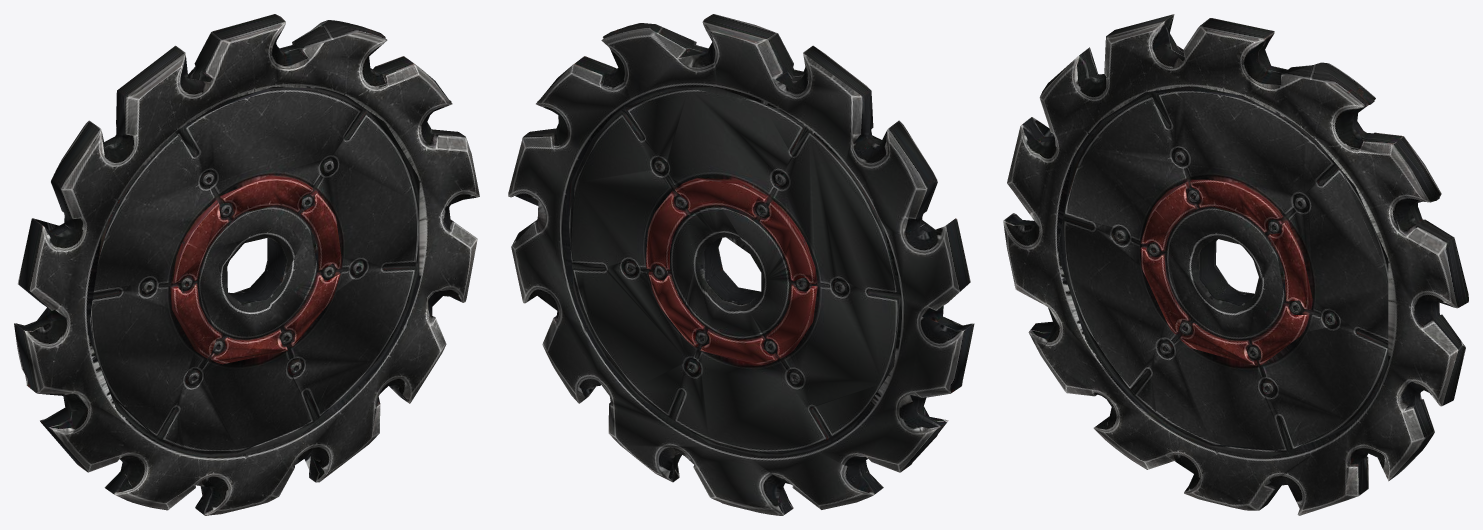
File: new_saw_blade.glb
3 renders of one model, left to right at view 1: azimuth 30°, elevation 25°; view 2: azimuth 150°, elevation 25°; view 3: azimuth 330°, elevation 25°, orthographic.
Parts seen in each view (by area): view 1: mesh_node; view 2: mesh_node; view 3: mesh_node.
Boxes of the visible parts, bbox=[...] form: mesh_node: bbox=[14, 14, 479, 515]; mesh_node: bbox=[508, 14, 974, 515]; mesh_node: bbox=[1003, 14, 1468, 515].
Bounding box in the file's own units: 1.89 × 1.89 × 0.1678.
1 material, 1 textured.
